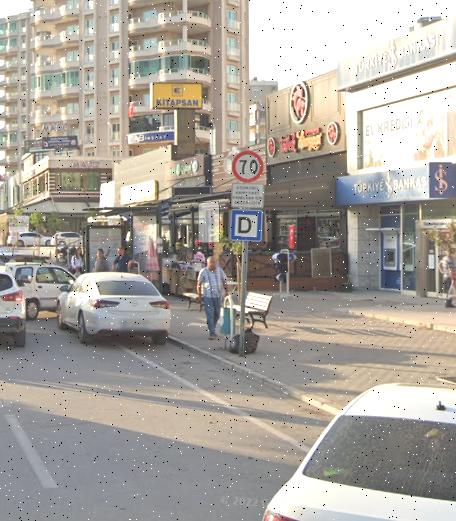stop: (232, 213, 258, 239)
